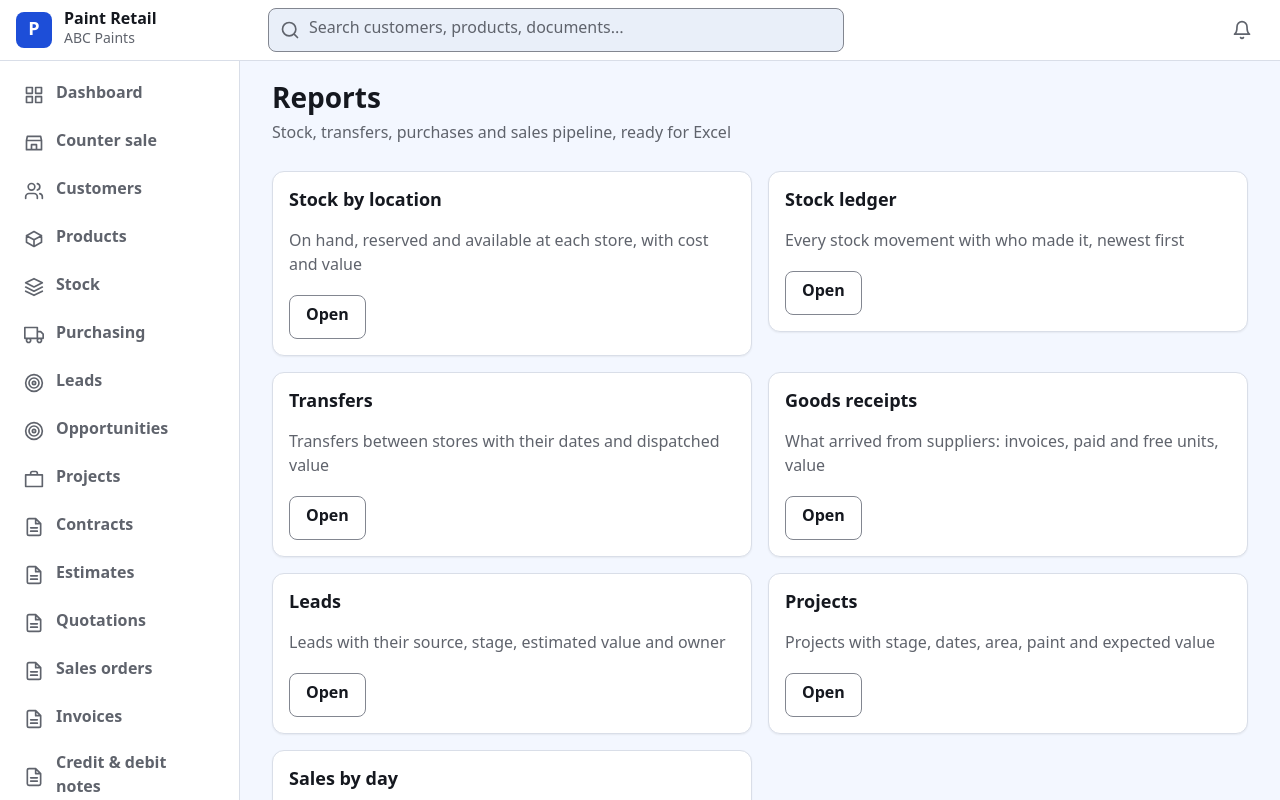
ReportsPage › lists the reports the role may run, in the member’s language
Expected: the element "Stock ledger" shows "Every stock movement with who made it, newest first", [785,232,1184,253]
Click the link with aria-label "Open Leads".
click(327, 695)  # box [289,673,366,717]
(page scrolled)
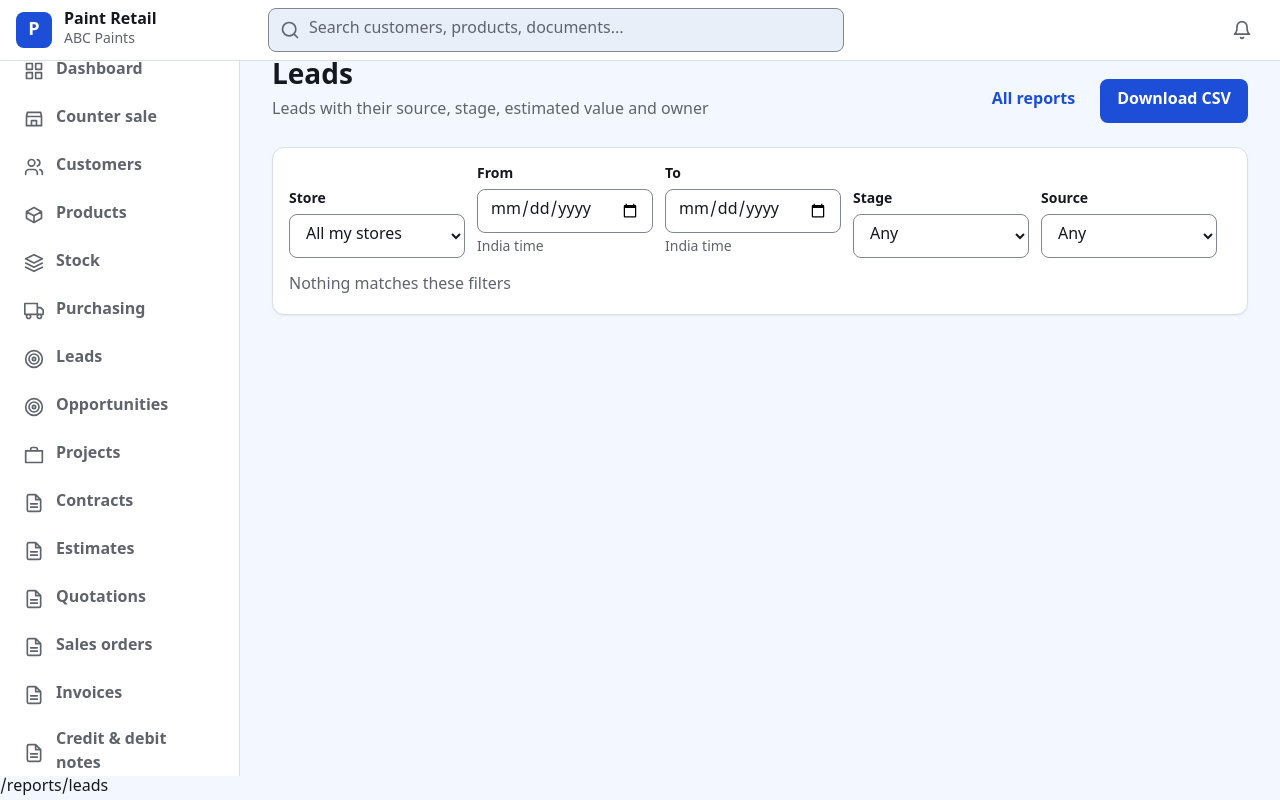
Result: the heading "Leads" is shown at [272,59,353,95]
Result: the text with test id "location" reads "/reports/leads" at [0,777,108,798]
